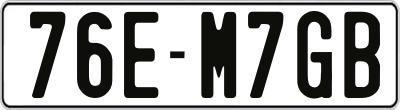6: (75, 10, 116, 100)
7: (245, 12, 284, 101), (27, 9, 64, 100)
B: (341, 12, 383, 102)
E: (124, 11, 159, 97)
G: (296, 11, 336, 98)
M: (200, 11, 241, 101)
